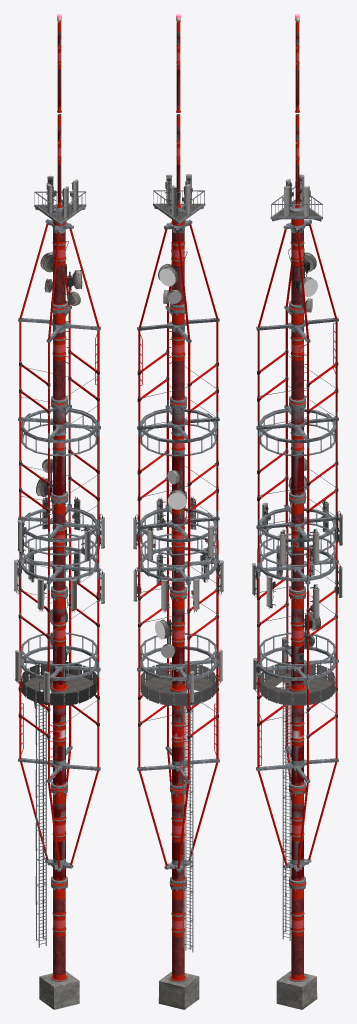
File: jammer.glb
3 renders of one model, left to right at view 1: azimuth 30°, elevation 25°; view 2: azimuth 150°, elevation 25°; view 3: azimuth 330°, elevation 25°, orthographic.
Visible parts, largest first — view 1: Radio_support_m_0 (×5), Radio_frame_red_m_0 (×2), Radio_antB_m_0, Radio_fence_m_0, Radio_antA_m_0, Radio_base_m_0, Radio_cables_m_0, Radio_white_m_0, Radio_floor_m_0; view 2: Radio_support_m_0 (×5), Radio_frame_red_m_0 (×2), Radio_antB_m_0, Radio_fence_m_0, Radio_base_m_0, Radio_plastic_m_0, Radio_white_m_0, Radio_cables_m_0, Radio_antA_m_0, Radio_floor_m_0, Radio_base_dirt_m_0; view 3: Radio_support_m_0 (×5), Radio_frame_red_m_0 (×2), Radio_antB_m_0, Radio_fence_m_0, Radio_base_m_0, Radio_antA_m_0, Radio_cables_m_0, Radio_white_m_0, Radio_floor_m_0, Radio_plastic_m_0.
Boxes of the visible parts, x1,y1,x2,y2 form: Radio_support_m_0 (×5): [18, 31, 100, 981]; Radio_frame_red_m_0 (×2): [19, 20, 99, 980]; Radio_antB_m_0: [14, 175, 104, 704]; Radio_fence_m_0: [21, 662, 97, 705]; Radio_antA_m_0: [36, 241, 82, 645]; Radio_base_m_0: [39, 971, 79, 1009]; Radio_cables_m_0: [19, 351, 99, 733]; Radio_white_m_0: [53, 18, 65, 928]; Radio_floor_m_0: [24, 673, 96, 704]; Radio_support_m_0 (×5): [137, 31, 219, 982]; Radio_frame_red_m_0 (×2): [138, 20, 218, 981]; Radio_antB_m_0: [133, 174, 223, 705]; Radio_fence_m_0: [140, 662, 216, 706]; Radio_base_m_0: [159, 971, 199, 1009]; Radio_plastic_m_0: [155, 268, 186, 658]; Radio_white_m_0: [172, 18, 184, 929]; Radio_cables_m_0: [138, 351, 218, 737]; Radio_antA_m_0: [158, 244, 187, 653]; Radio_floor_m_0: [144, 673, 213, 704]; Radio_base_dirt_m_0: [158, 978, 199, 1009]; Radio_support_m_0 (×5): [256, 31, 338, 981]; Radio_frame_red_m_0 (×2): [257, 20, 337, 980]; Radio_antB_m_0: [252, 174, 342, 692]; Radio_fence_m_0: [259, 662, 335, 705]; Radio_base_m_0: [276, 970, 316, 1009]; Radio_antA_m_0: [288, 242, 320, 647]; Radio_cables_m_0: [257, 351, 337, 736]; Radio_white_m_0: [291, 18, 303, 928]; Radio_floor_m_0: [260, 673, 331, 704]; Radio_plastic_m_0: [304, 279, 317, 312].
Size of the model in its own units: 5.6 by 73.49 by 6.05.
40 materials, 35 textured.
